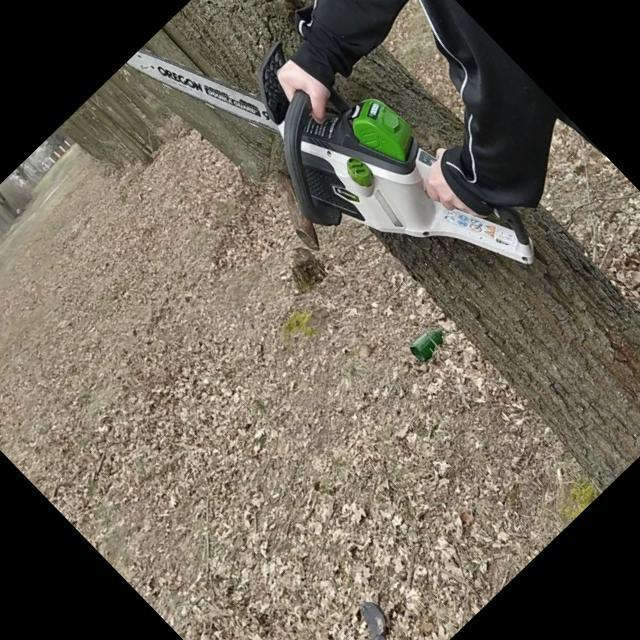Chainsaw: (122, 0, 556, 377)
